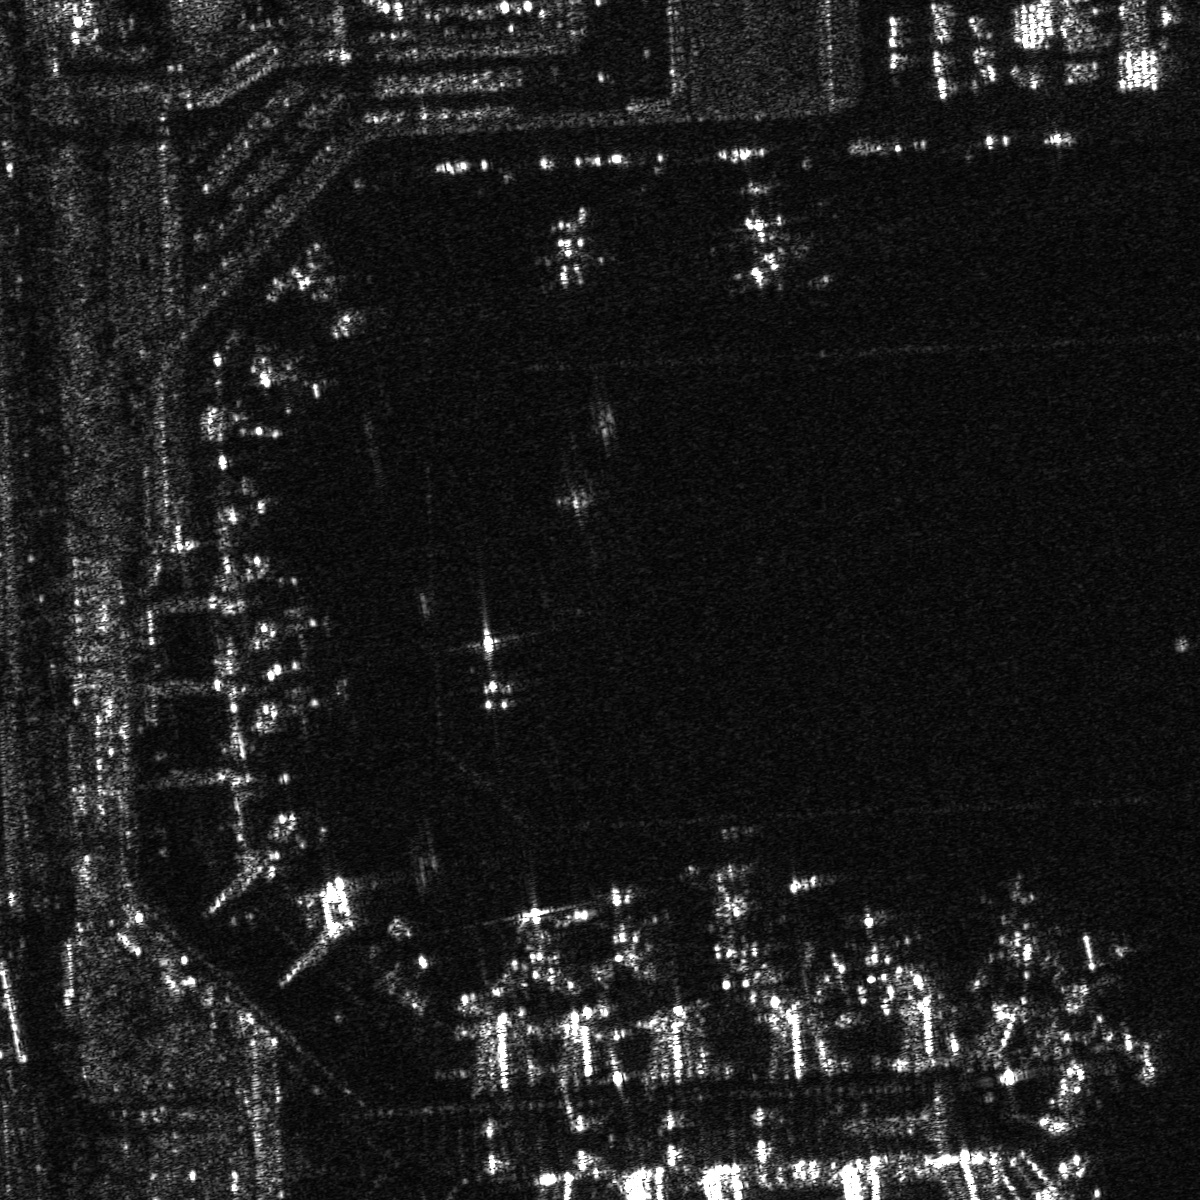A220: (293, 263, 384, 345), (243, 344, 340, 420), (254, 585, 344, 665), (260, 673, 362, 743), (504, 896, 576, 995)
A320/321: (704, 860, 780, 975), (981, 869, 1051, 976), (845, 904, 908, 990)
Boeing737: (529, 208, 620, 292), (466, 625, 534, 716)
other: (720, 207, 815, 297), (595, 882, 658, 984)
